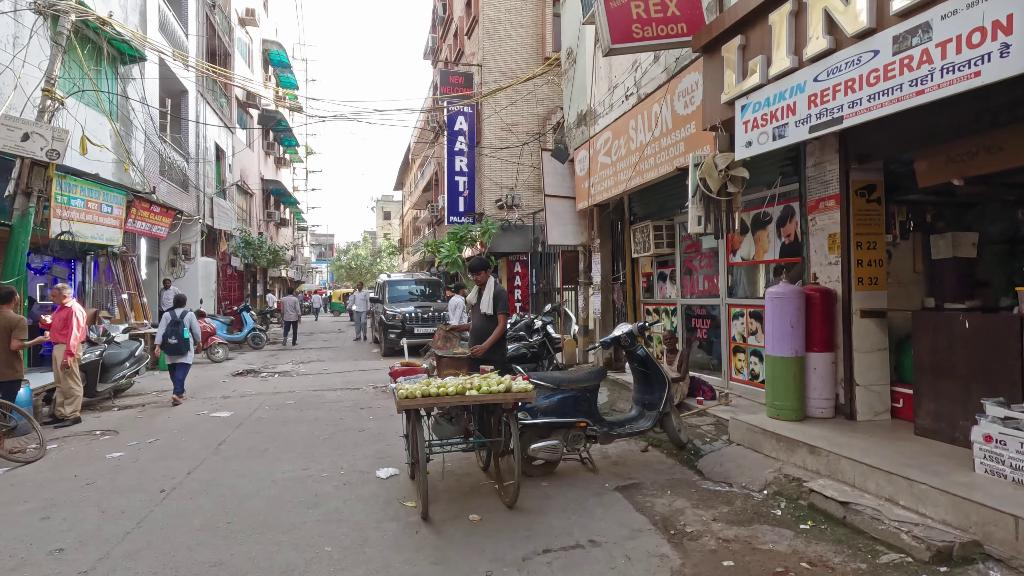garbage: (205, 405, 237, 422), (376, 467, 403, 484)
